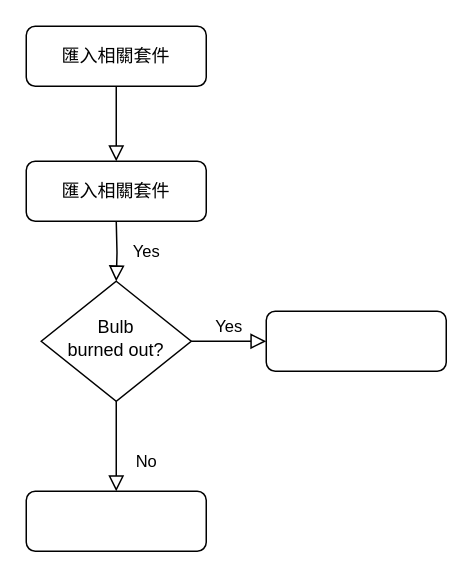
The diagram is 473 pixels wide and 578 high, and some of its shapes have lost their labels. Here are the shapes that lost their labels. From the top down, the centre of each, then its label:
At [355,340]: "Replace Bulb".
At [115,520]: "Repair Lamp".
